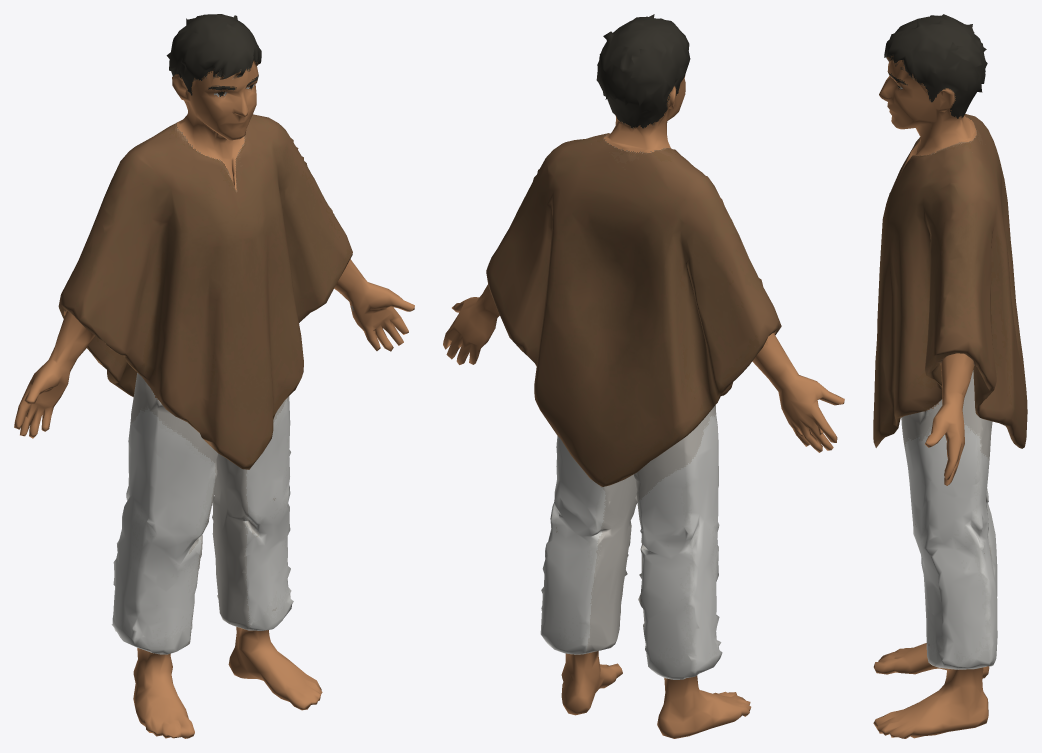
The model's file is paisano.glb.
3 renders of one model, left to right at view 1: azimuth 30°, elevation 25°; view 2: azimuth 150°, elevation 25°; view 3: azimuth 270°, elevation 25°, orthographic.
Visible parts, largest first — view 1: tripo_node_71ddaad2-909b-4495-8406-0f806b122cf6; view 2: tripo_node_71ddaad2-909b-4495-8406-0f806b122cf6; view 3: tripo_node_71ddaad2-909b-4495-8406-0f806b122cf6.
Boxes of the visible parts, x1=… form: tripo_node_71ddaad2-909b-4495-8406-0f806b122cf6: x1=14, y1=14, x2=414, y2=738; tripo_node_71ddaad2-909b-4495-8406-0f806b122cf6: x1=443, y1=14, x2=844, y2=738; tripo_node_71ddaad2-909b-4495-8406-0f806b122cf6: x1=873, y1=14, x2=1027, y2=738.
Size of the model in its own units: 0.5997 by 1 by 0.2046.
1 material, 1 textured.
